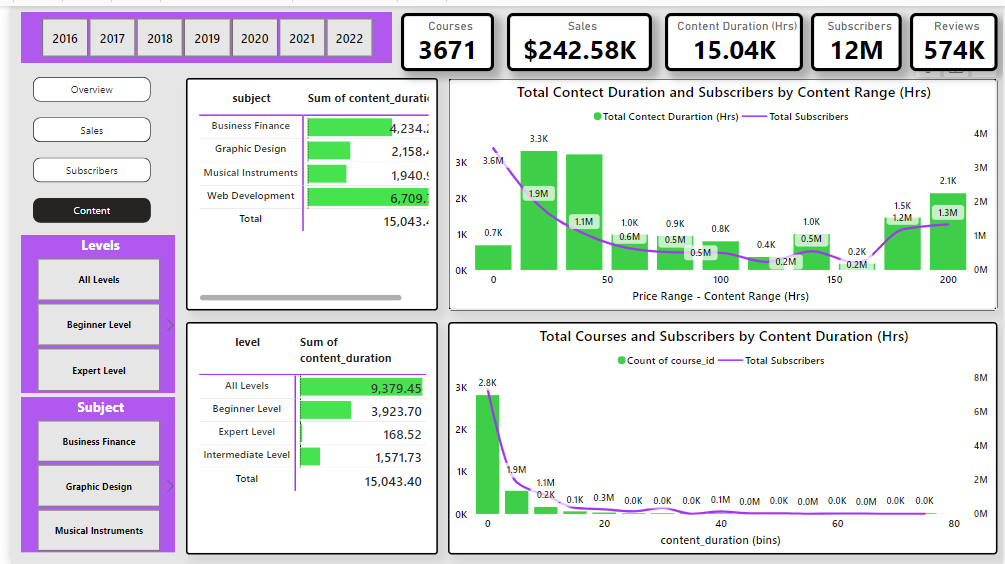

The dashboard page shown, as its layout file describes it:
{"tool":"powerbi","page":{"name":"Content","canvas":[1280,720],"ordinal":3},"visuals":[{"type":"lineStackedColumnComboChart","title":"Total Contect Duration and Subscribers by Content Range (Hrs)","fields":{"Category":["udemy_courses_dataset.price (bins20)"],"Y":["Sum(udemy_courses_dataset.content_duration)"],"Y2":["Sum(udemy_courses_dataset.num_subscribers)"]},"box":[563.8,92.8,708.7,300],"z":0},{"type":"lineStackedColumnComboChart","title":"Total Courses and Subscribers by Content Duration (Hrs)","fields":{"Category":["udemy_courses_dataset.content_duration (bins)"],"Y2":["Sum(udemy_courses_dataset.num_subscribers)"],"Y":["CountNonNull(udemy_courses_dataset.course_id)"]},"box":[563.8,407.2,708.7,300],"z":1000},{"type":"pivotTable","fields":{"Rows":["udemy_courses_dataset.subject"],"Values":["Sum(udemy_courses_dataset.content_duration)"]},"box":[226.1,92.8,324.6,300],"z":2000},{"type":"pivotTable","fields":{"Rows":["udemy_courses_dataset.level"],"Values":["Sum(udemy_courses_dataset.content_duration)"]},"box":[226.1,407.2,324.6,300],"z":3000},{"type":"card","title":"Courses","fields":{"Values":["Count(udemy_courses_dataset.course_id)"]},"box":[502.9,8.7,120.3,75.4],"z":4000},{"type":"card","title":"Sales","fields":{"Values":["Sum(udemy_courses_dataset.price)"]},"box":[640.6,8.7,187,75.4],"z":5000},{"type":"card","title":"Content Duration (Hrs)","fields":{"Values":["Sum(udemy_courses_dataset.content_duration)"]},"box":[843.5,8.7,178.3,75.4],"z":6000},{"type":"card","title":"Subscribers","fields":{"Values":["Sum(udemy_courses_dataset.num_subscribers)"]},"box":[1031.9,8.7,117.4,75.4],"z":7000},{"type":"card","title":"Reviews","fields":{"Values":["Sum(udemy_courses_dataset.num_reviews)"]},"box":[1159.4,8.7,113,75.4],"z":8000},{"type":"slicer","fields":{"Values":["udemy_courses_dataset.year"]},"box":[10.1,5.8,484.1,71],"z":9000},{"type":"slicer","title":"Levels","fields":{"Values":["udemy_courses_dataset.level"]},"box":[10.1,292.8,204.3,208.7],"z":10000},{"type":"slicer","title":"Subject","fields":{"Values":["udemy_courses_dataset.subject"]},"box":[10.1,501.4,204.3,205.8],"z":11000},{"type":"pageNavigator","box":[29,91.3,152.2,189.9],"z":12000}]}

Visuals, with their boxes in screenshot pixels (x1, y1, x2, y2), scaled from the page's 1280x720 canvas onto the 1005x564 screenshot:
"Total Contect Duration and Subscribers by Content Range (Hrs)" lineStackedColumnComboChart: box=[443, 73, 999, 308]
"Total Courses and Subscribers by Content Duration (Hrs)" lineStackedColumnComboChart: box=[443, 319, 999, 554]
pivotTable - udemy_courses_dataset.subject x Sum(udemy_courses_dataset.content_duration): box=[178, 73, 432, 308]
pivotTable - udemy_courses_dataset.level x Sum(udemy_courses_dataset.content_duration): box=[178, 319, 432, 554]
"Courses" card: box=[395, 7, 489, 66]
"Sales" card: box=[503, 7, 650, 66]
"Content Duration (Hrs)" card: box=[662, 7, 802, 66]
"Subscribers" card: box=[810, 7, 902, 66]
"Reviews" card: box=[910, 7, 999, 66]
slicer - udemy_courses_dataset.year: box=[8, 5, 388, 60]
"Levels" slicer: box=[8, 229, 168, 393]
"Subject" slicer: box=[8, 393, 168, 554]
pageNavigator: box=[23, 72, 142, 220]
